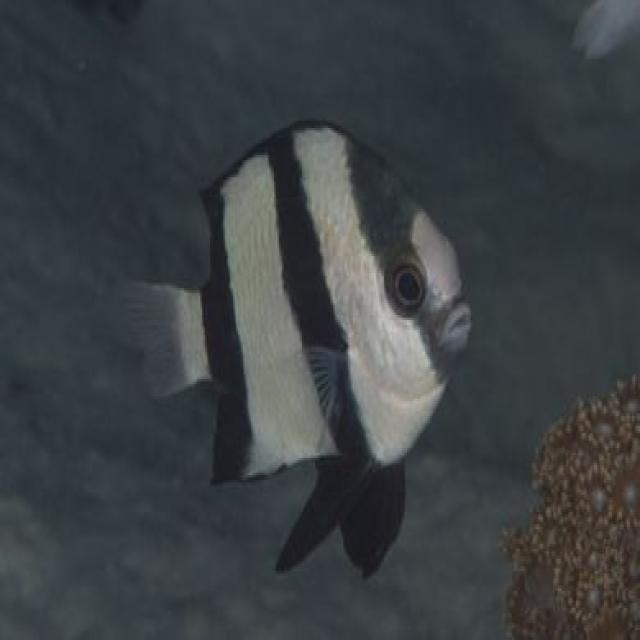ThreeStripedDamselfish: (112, 121, 474, 581)
